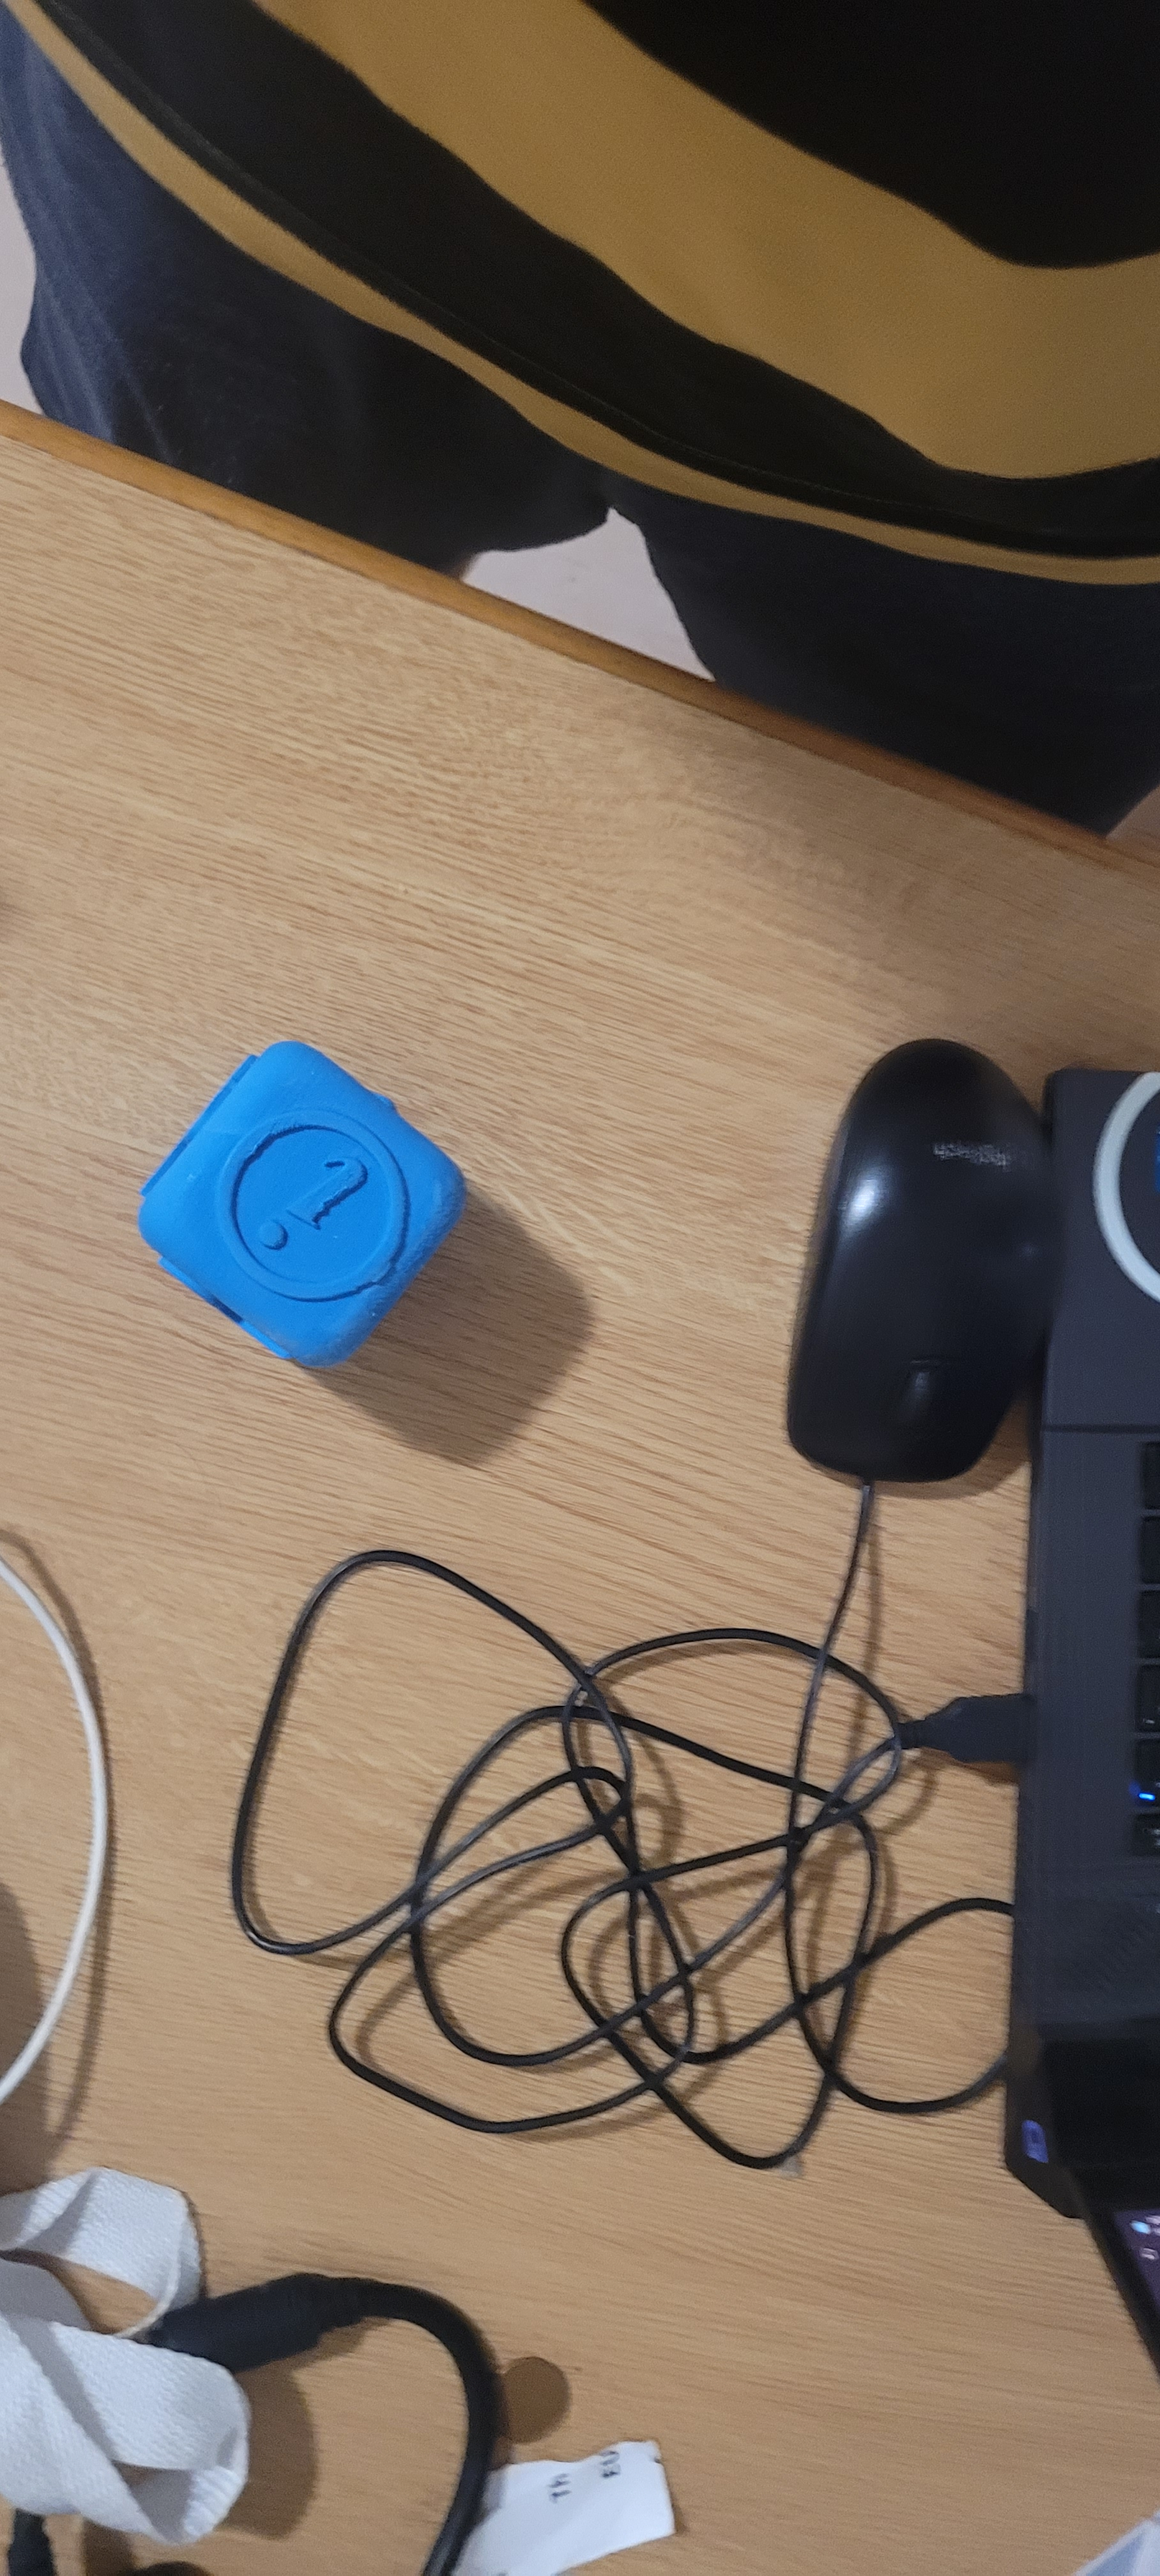Info: (196, 1066, 447, 1341)
